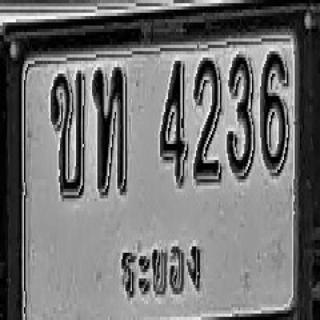A02: (50, 69, 85, 197)
A23: (93, 65, 127, 194)
N02: (193, 56, 221, 178)
N03: (227, 53, 253, 178)
N04: (160, 58, 187, 182)
N06: (261, 50, 287, 171)
P53: (118, 230, 205, 304)
